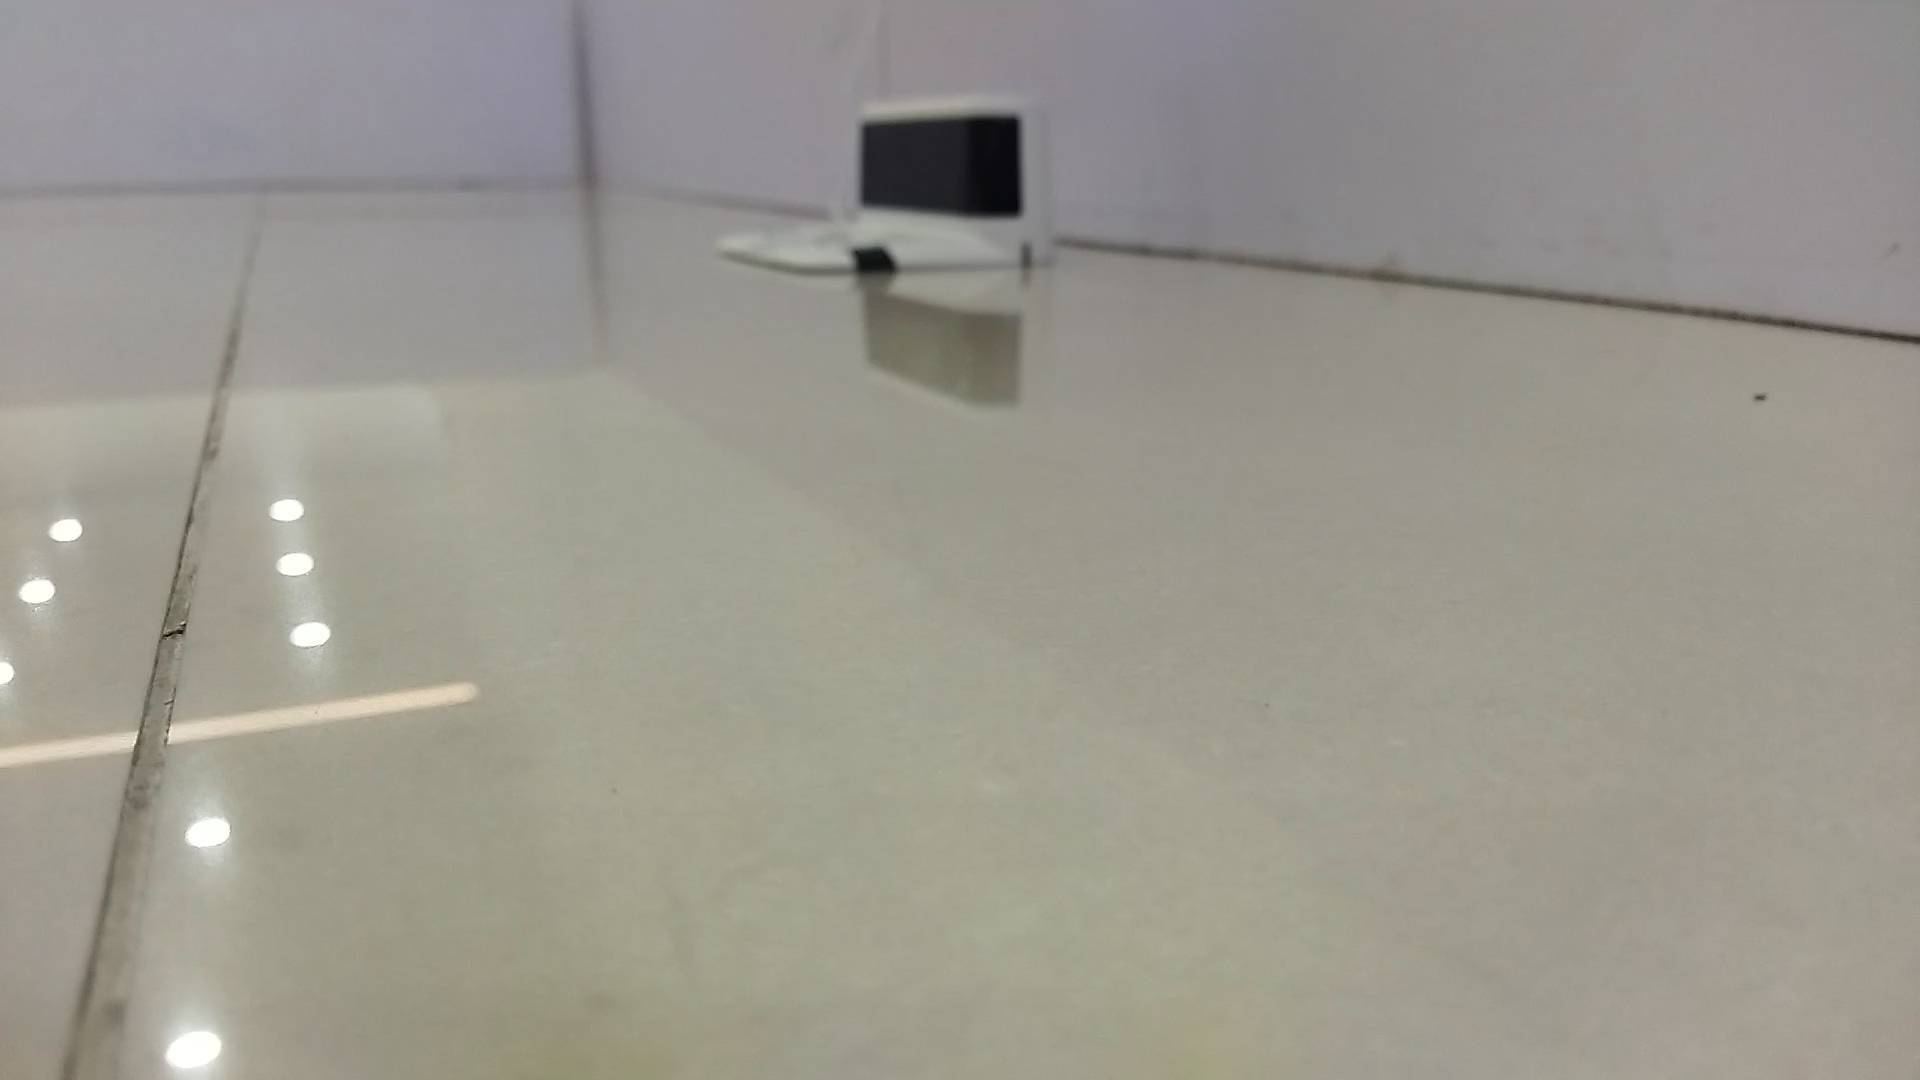recharge seat: (716, 94, 1062, 272)
